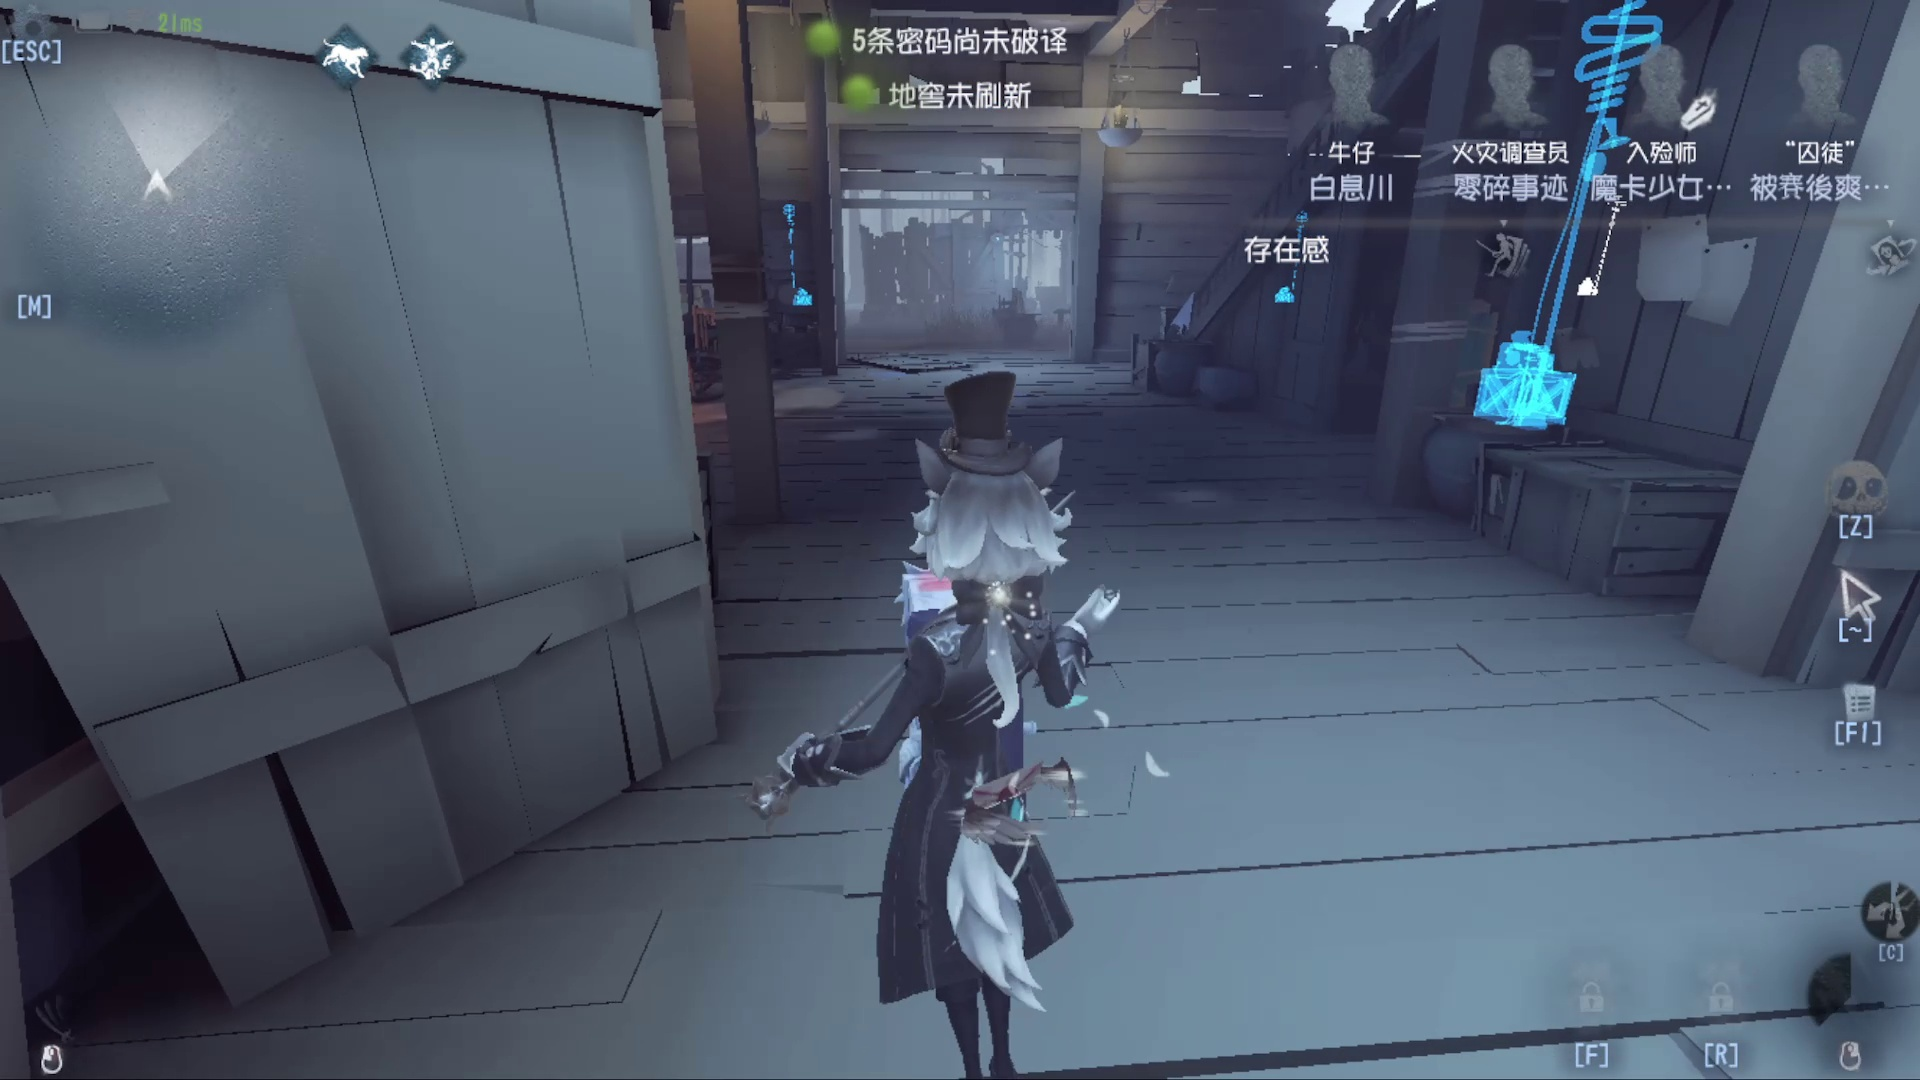密码机: (1472, 32, 1588, 454), (767, 198, 851, 348), (1245, 186, 1321, 311)
